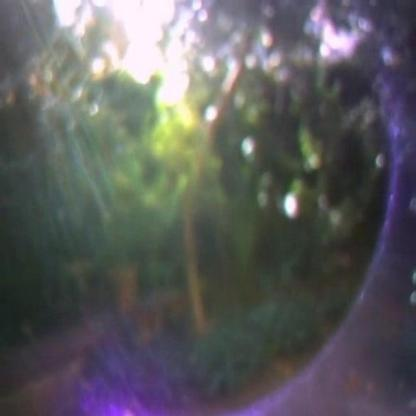other: (71, 0, 218, 175)
